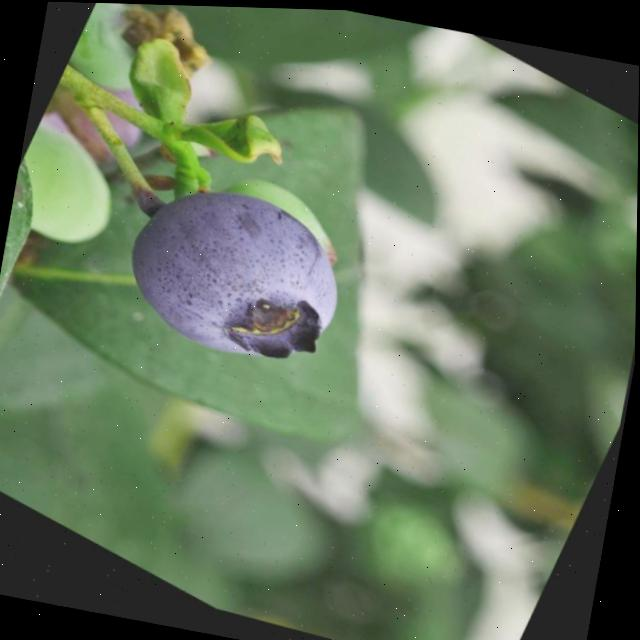RipeBlueBerry: (96, 148, 378, 411)
